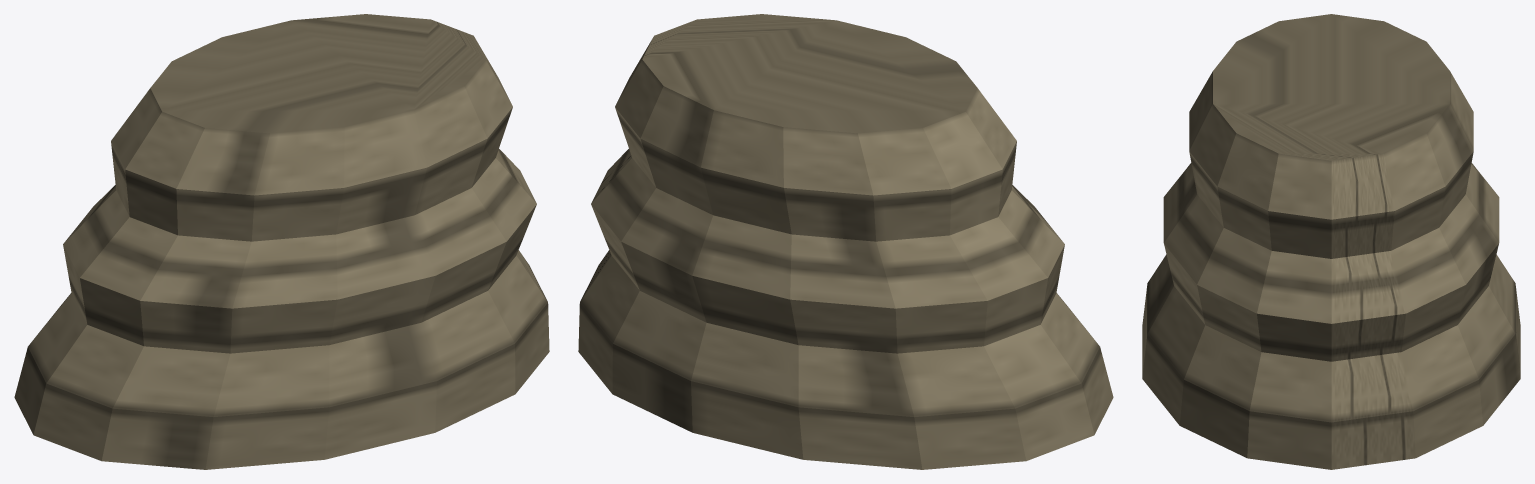
Rendered from cliff-sandstone-lod0.glb.
3 renders of one model, left to right at view 1: azimuth 30°, elevation 25°; view 2: azimuth 150°, elevation 25°; view 3: azimuth 270°, elevation 25°, orthographic. The views are drawn at different scales.
Bounding box in the file's own units: 0.552 × 0.31 × 0.3767.
1 material, 1 textured.
